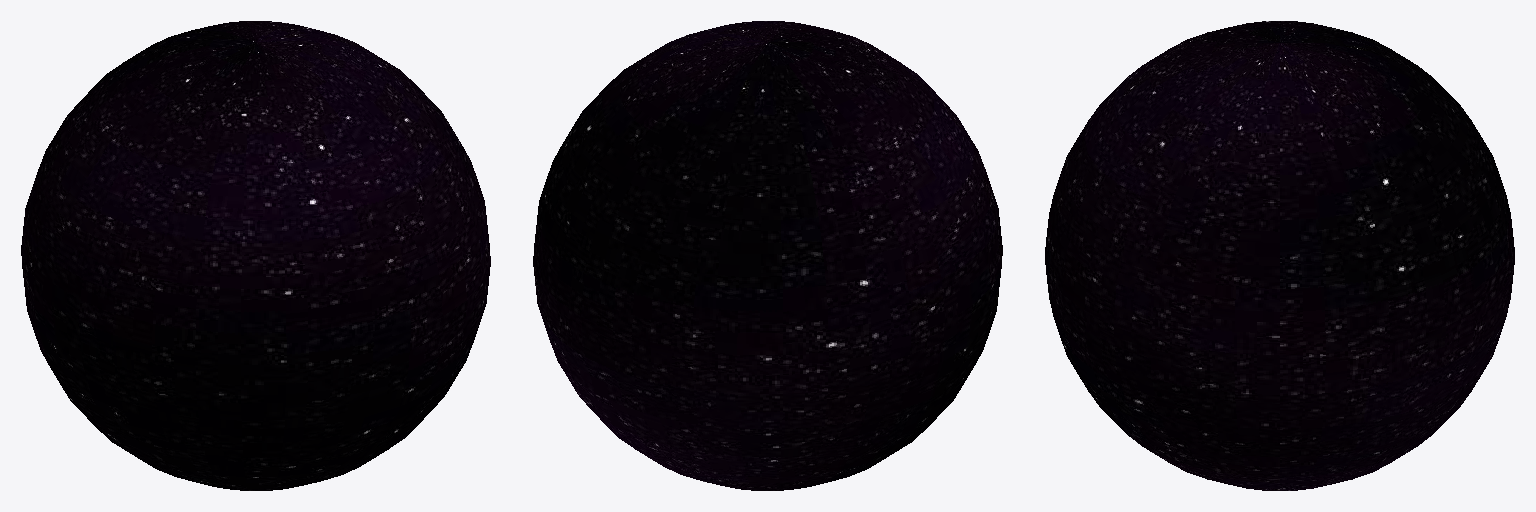
3 renders of one model, left to right at view 1: azimuth 30°, elevation 25°; view 2: azimuth 150°, elevation 25°; view 3: azimuth 270°, elevation 25°, orthographic.
Visible parts, largest first — view 1: 球; view 2: 球; view 3: 球.
Part boxes in pixels (bbox=[...]): 球: bbox=[21, 21, 490, 490]; 球: bbox=[533, 21, 1002, 490]; 球: bbox=[1045, 21, 1514, 490].
Bounding box in the file's own units: 2 × 2 × 2.
1 materials, 1 textured.